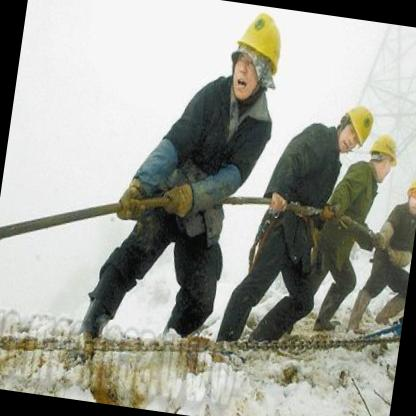helmet: (223, 3, 295, 121), (332, 98, 381, 163), (364, 130, 403, 185), (402, 170, 416, 218)
